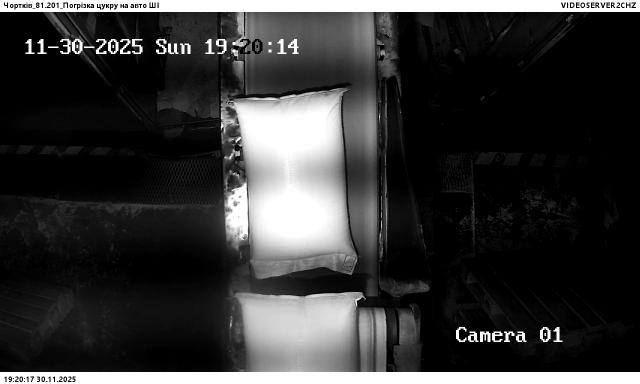bag: (235, 88, 360, 279), (236, 293, 367, 372)
